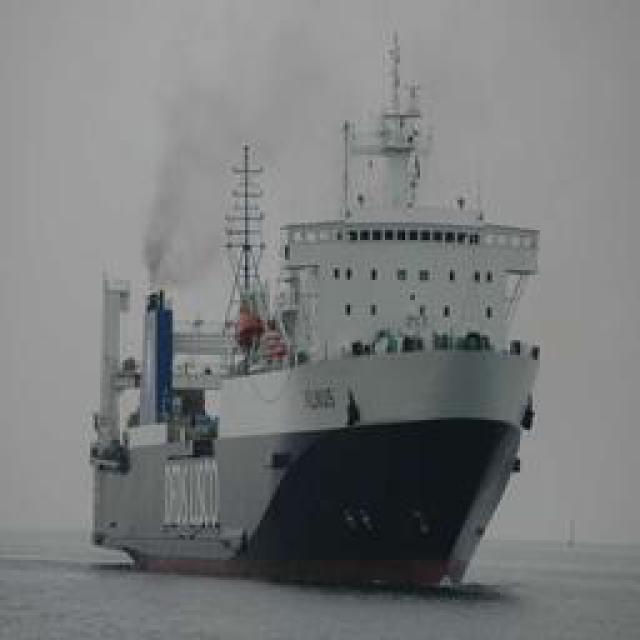Ship: (96, 230, 544, 593)
